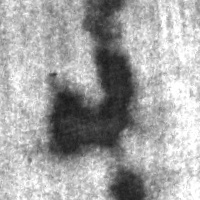patches: (44, 45, 137, 160), (81, 0, 124, 44), (109, 165, 144, 199)
